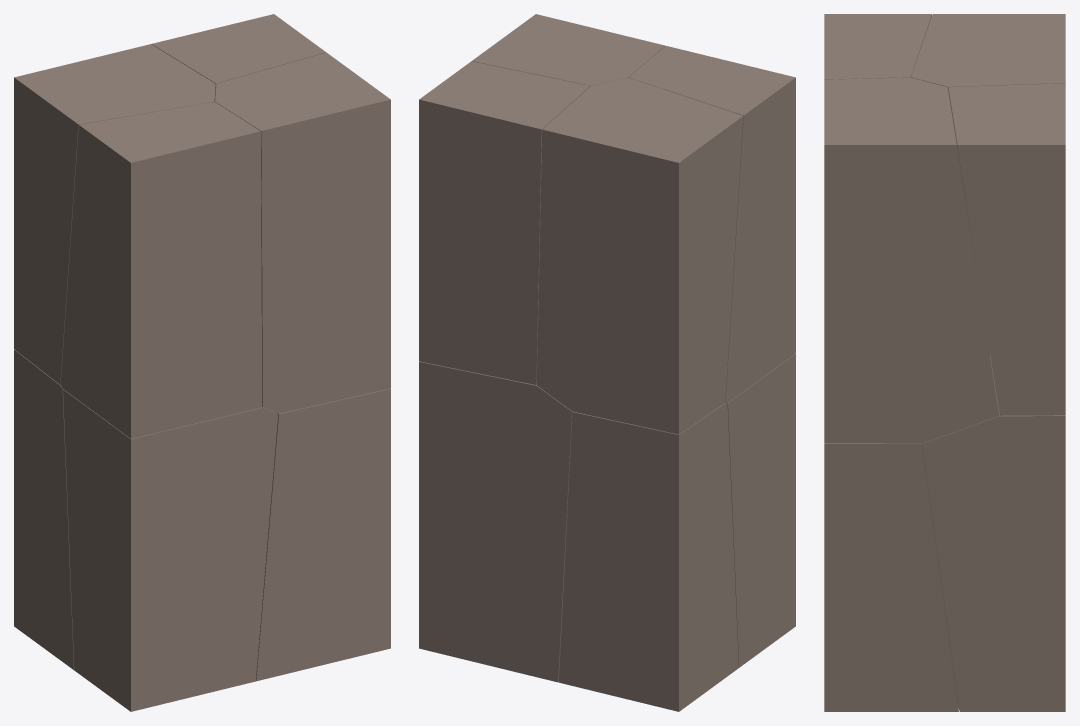
File: Block.fbx
3 renders of one model, left to right at view 1: azimuth 30°, elevation 25°; view 2: azimuth 150°, elevation 25°; view 3: azimuth 270°, elevation 25°, orthographic. The views are drawn at different scales.
Parts seen in each view (by area): view 1: Cube.001_cell.002, Cube.001_cell, Cube.001_cell.003, Cube.001_cell.001, Cube.001_cell.004, Cube.001_cell.006, Cube.001_cell.005; view 2: Cube.001_cell.004, Cube.001_cell.006, Cube.001_cell.007, Cube.001_cell.005, Cube.001_cell.002, Cube.001_cell, Cube.001_cell.003; view 3: Cube.001_cell.003, Cube.001_cell.007, Cube.001_cell.001, Cube.001_cell.005, Cube.001_cell.004, Cube.001_cell.002.
Part boxes in pixels (x1,y1,x2,y2): Cube.001_cell.002: [60, 102, 262, 438]; Cube.001_cell: [63, 389, 278, 711]; Cube.001_cell.003: [215, 52, 390, 413]; Cube.001_cell.001: [256, 388, 390, 681]; Cube.001_cell.004: [14, 44, 215, 384]; Cube.001_cell.006: [14, 349, 74, 669]; Cube.001_cell.005: [151, 14, 326, 101]; Cube.001_cell.004: [537, 77, 743, 434]; Cube.001_cell.006: [558, 403, 738, 711]; Cube.001_cell.007: [419, 361, 572, 682]; Cube.001_cell.005: [419, 61, 590, 384]; Cube.001_cell.002: [629, 46, 795, 402]; Cube.001_cell: [727, 354, 795, 667]; Cube.001_cell.003: [472, 14, 664, 86]; Cube.001_cell.003: [824, 77, 999, 443]; Cube.001_cell.007: [921, 355, 1065, 711]; Cube.001_cell.001: [824, 443, 958, 711]; Cube.001_cell.005: [948, 83, 1065, 415]; Cube.001_cell.004: [911, 14, 1065, 354]; Cube.001_cell.002: [824, 14, 931, 79].
Bounding box in the file's own units: 100 × 202 × 77.86.
